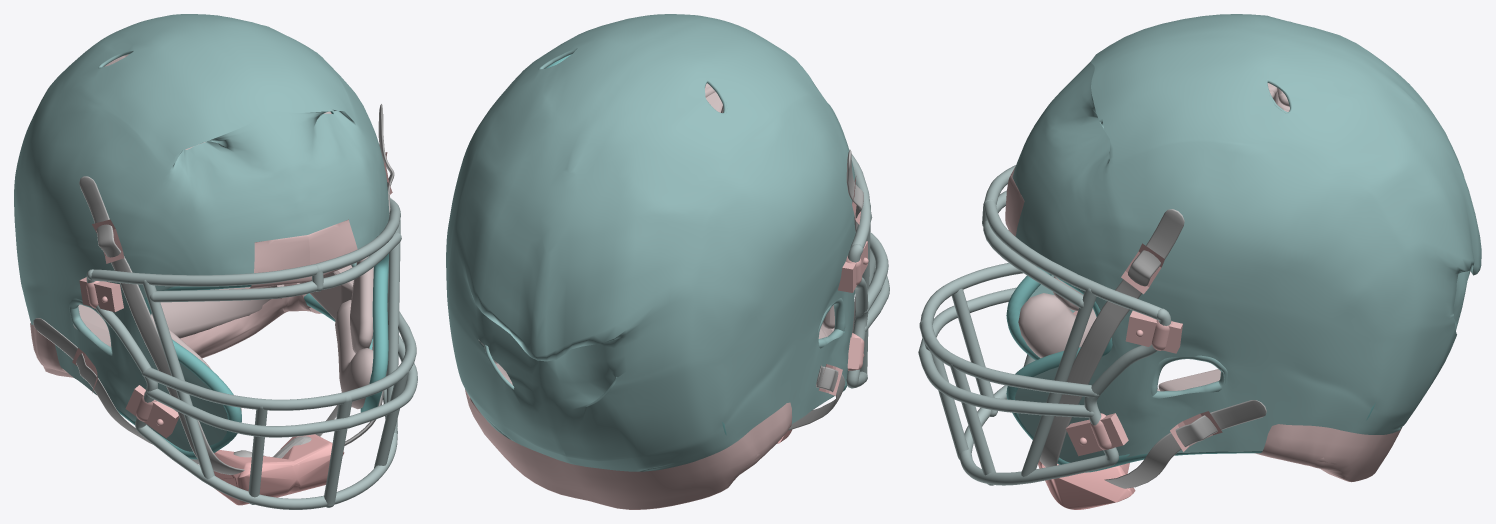
Rendered from helmet.glb.
The picture shows the model from 3 angles, left to right: view 1: azimuth 30°, elevation 25°; view 2: azimuth 150°, elevation 25°; view 3: azimuth 270°, elevation 25°; orthographic projection. The views are drawn at different scales.
Parts seen in each view (by area): view 1: shell, mask, pads, bumper, strap, trim, cup, hardware; view 2: shell, bumper, mask, strap, hardware, pads; view 3: shell, mask, strap, bumper, hardware, pads, trim, cup.
Part boxes in pixels (x1,y1,x2,y2): shell: (14,14,389,451); mask: (86,197,417,509); pads: (73,54,373,410); bumper: (30,219,358,377); strap: (33,104,394,474); trim: (23,111,388,459); cup: (213,434,344,505); hardware: (72,152,392,438); shell: (446,14,856,471); bumper: (465,389,792,509); mask: (846,154,889,388); strap: (788,149,863,430); hardware: (818,176,868,395); pads: (479,83,834,385); shell: (1012,14,1481,462); mask: (918,165,1171,485); strap: (1039,209,1266,488); bumper: (1005,166,1402,482); hardware: (1065,243,1222,456); pads: (1018,83,1289,391); trim: (1006,267,1375,472); cup: (1038,460,1135,509).
Size of the model in its own units: 1.06 by 1.33 by 1.45.
